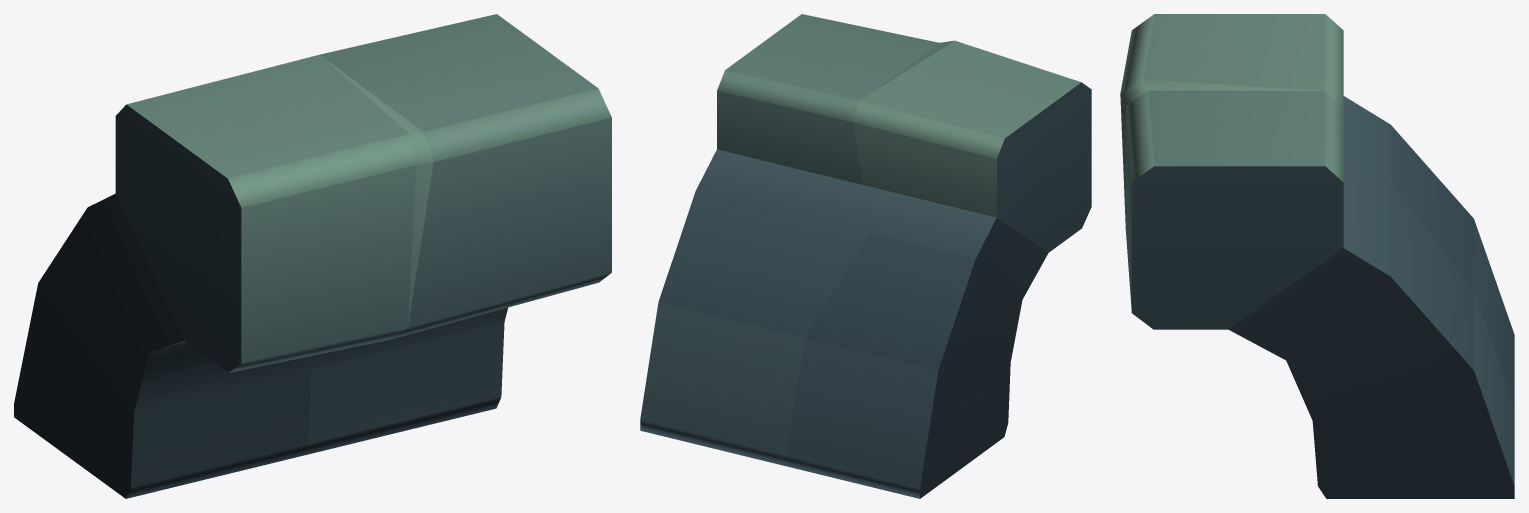
Rendered from wall_element_tileable_2meters_top.fbx.
3 renders of one model, left to right at view 1: azimuth 30°, elevation 25°; view 2: azimuth 150°, elevation 25°; view 3: azimuth 270°, elevation 25°, orthographic. The views are drawn at different scales.
Visible parts, largest first — view 1: wall_element_tileable_2meters_top; view 2: wall_element_tileable_2meters_top; view 3: wall_element_tileable_2meters_top.
Boxes of the visible parts, box(x1,y1,x2,y2) form: wall_element_tileable_2meters_top: box(14, 14, 611, 498); wall_element_tileable_2meters_top: box(640, 14, 1091, 498); wall_element_tileable_2meters_top: box(1120, 14, 1514, 498).
Bounding box in the file's own units: 200 × 208 × 219.
